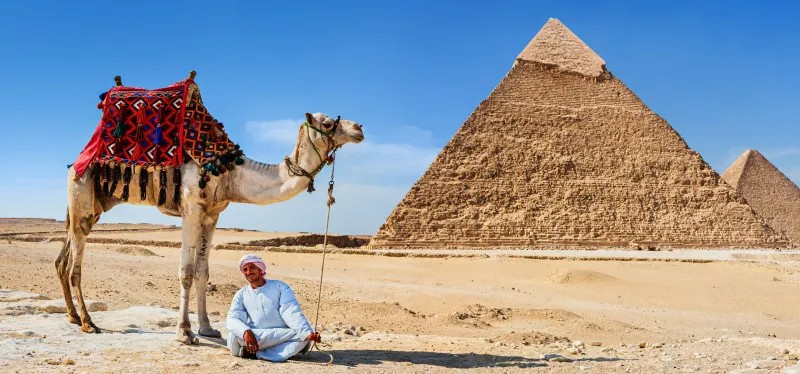Pyramid: (369, 16, 787, 246), (720, 149, 800, 248)
